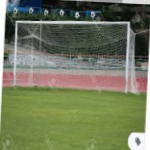goals: (12, 17, 139, 95)
